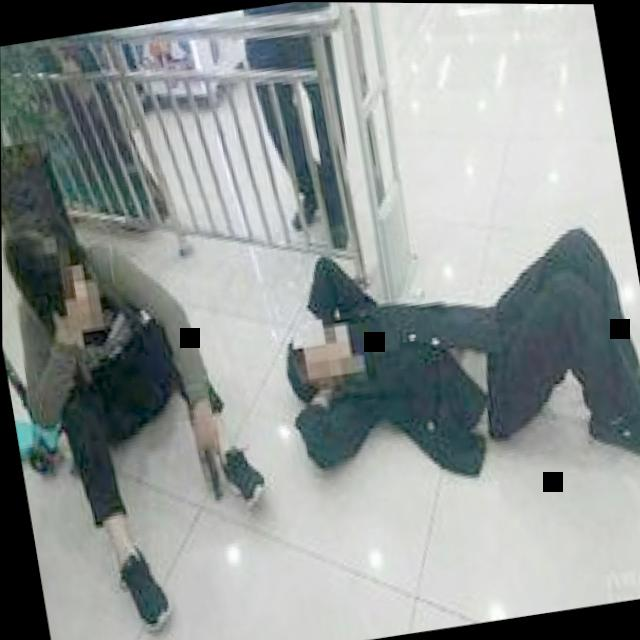Fall-Detected: (239, 179, 640, 533)
